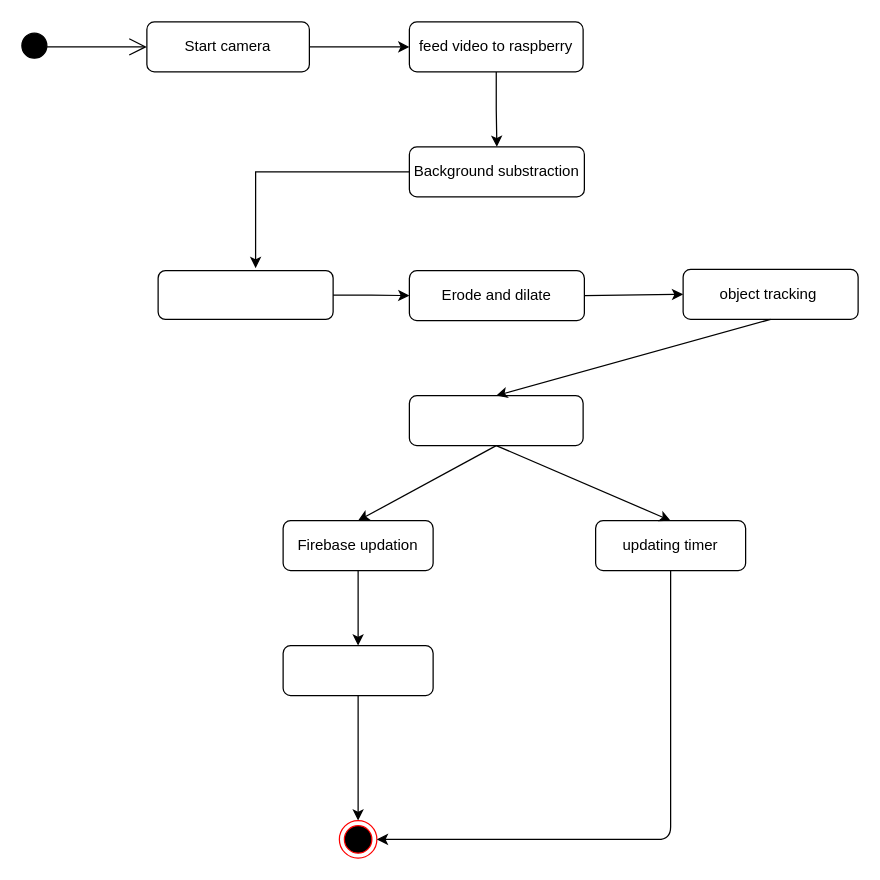
Some shapes in this 880 by 880 pixel diagram are drawn without their labels. The centre of each missing label's shape, as x and y in pixels:
"Binarizatiion" goes at point (245, 294).
"counting and time allocation" goes at point (495, 420).
"Mobile app updated" goes at point (357, 670).
